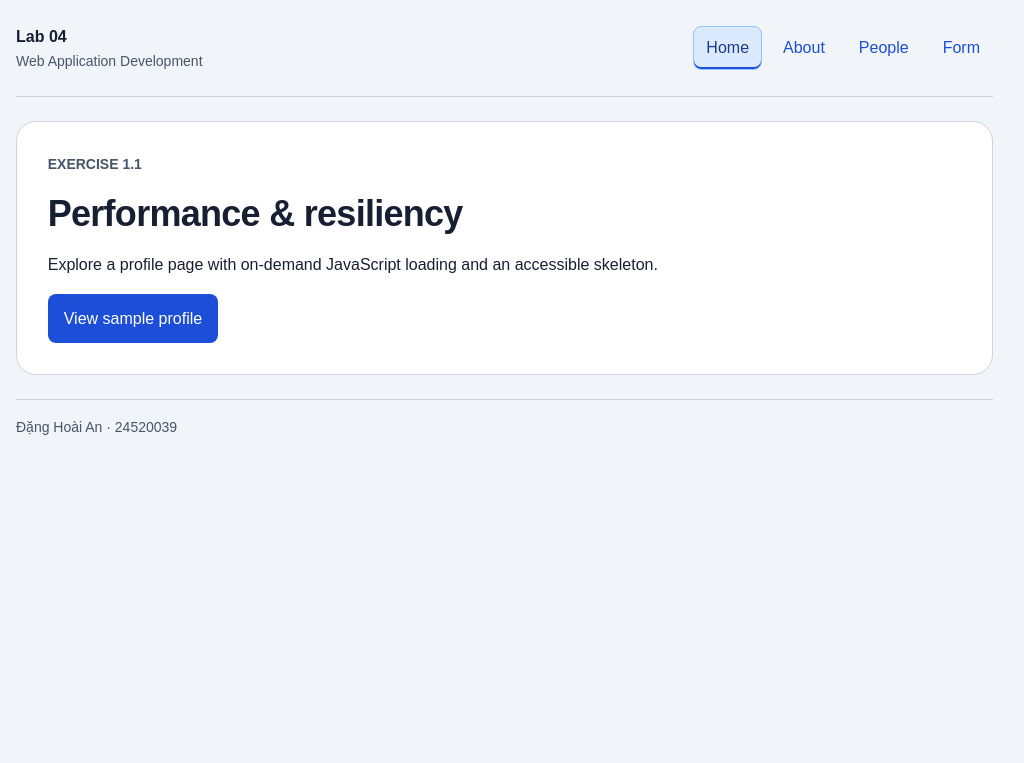
Scenario: Lazy person detail regression › opens the real lazy page while preserving navigation
Click the link "People" at (884, 48), box 859,39 -> 909,56
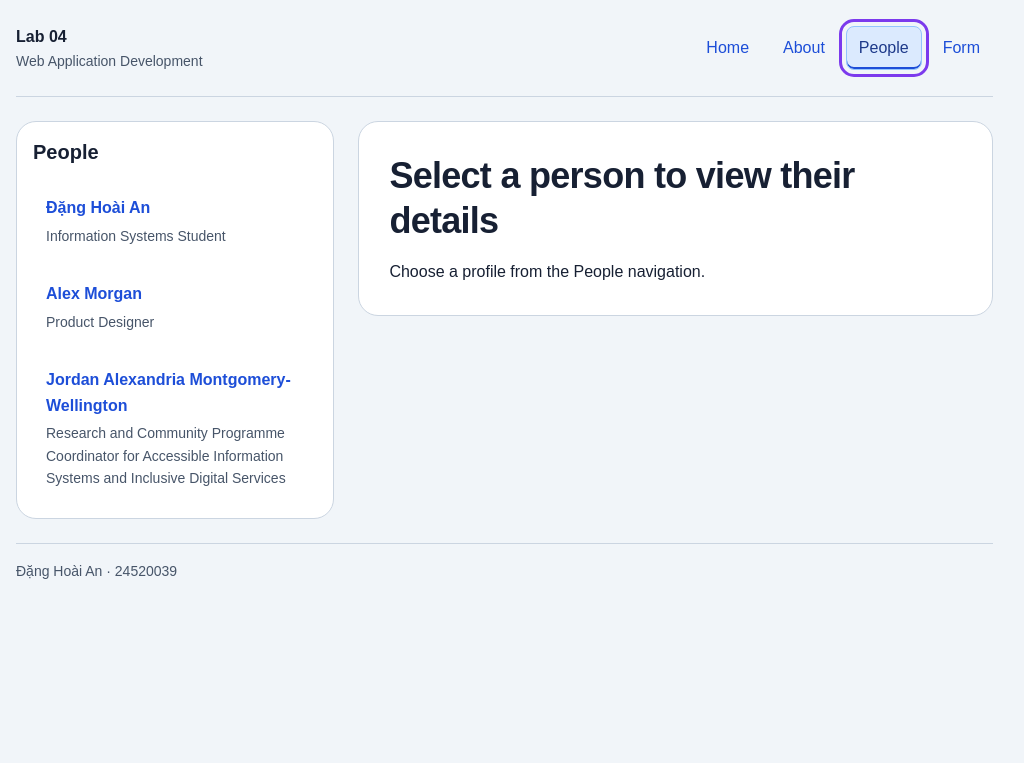
Click the link "Đặng Hoài An Information Systems Student" at (98, 207), box 46,199 -> 226,244
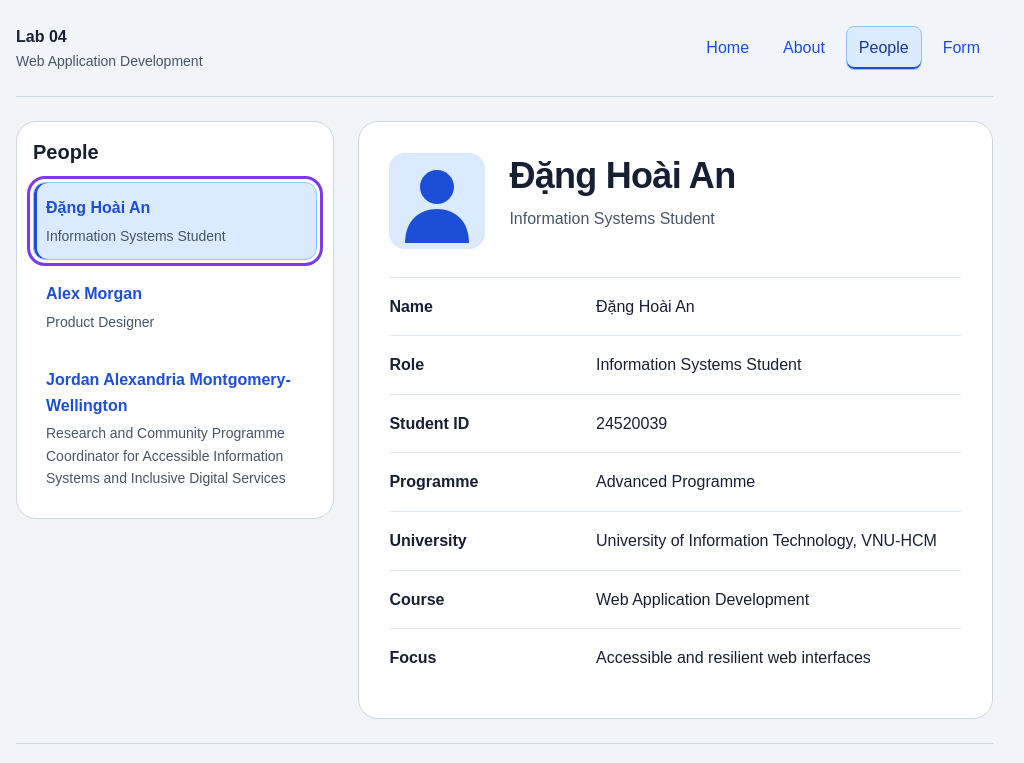
Result: the heading "Đặng Hoài An" is shown at 509,155 -> 735,196
Click the link "Home" at (728, 48), box 706,39 -> 749,56
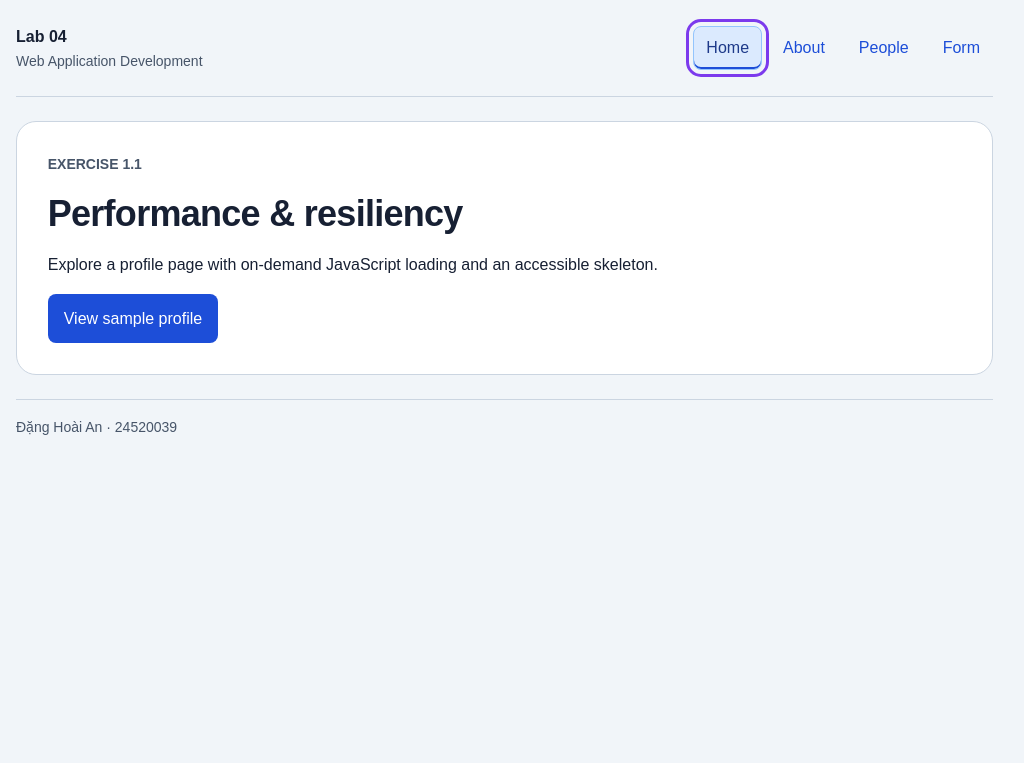
Result: the heading "Performance & resiliency" is shown at 48,193 -> 463,234
